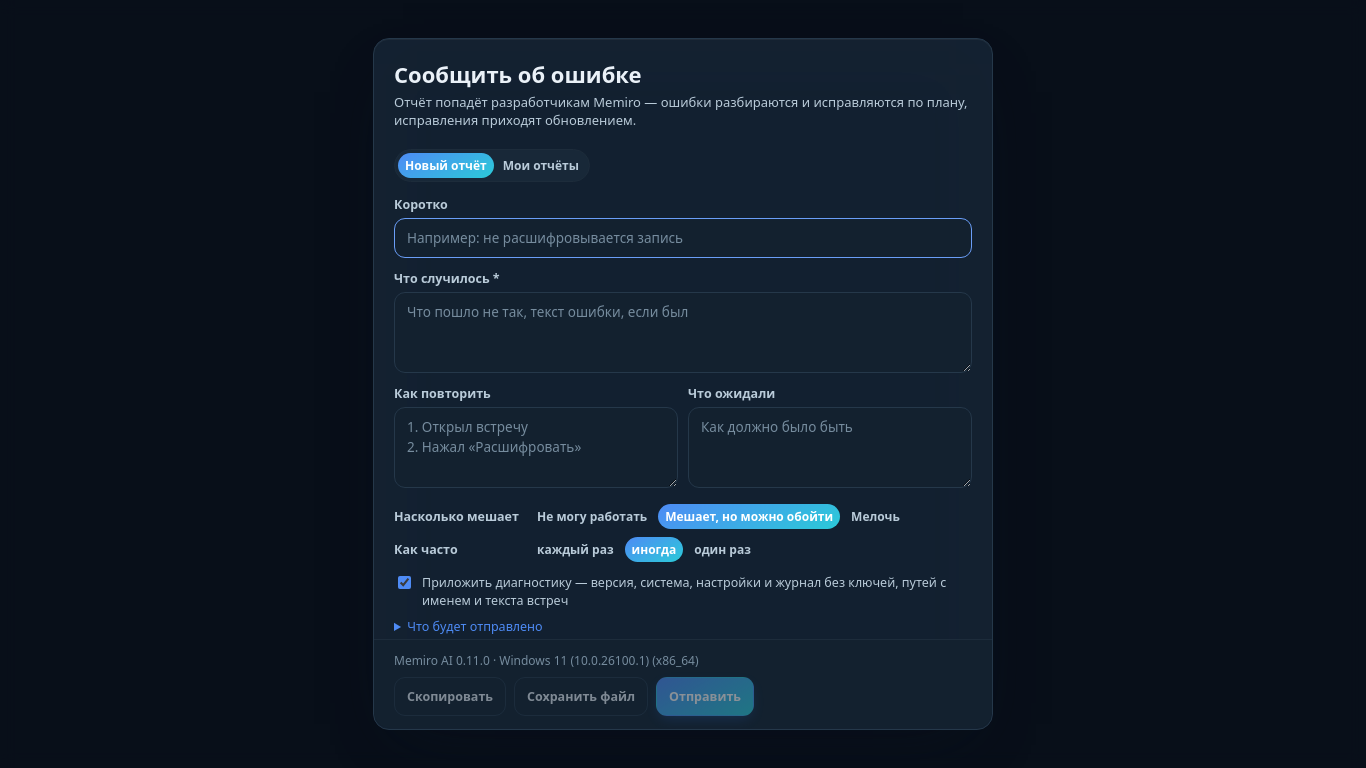
Scenario: BugReportModal › requires a description before sending
Expected: the button "Отправить" is disabled, [656,678,754,717]
Type "Не работает запись" into the text box labelled "Что случилось *".
click(683, 333); type("Не работает запись")  # box [394,292,972,373]
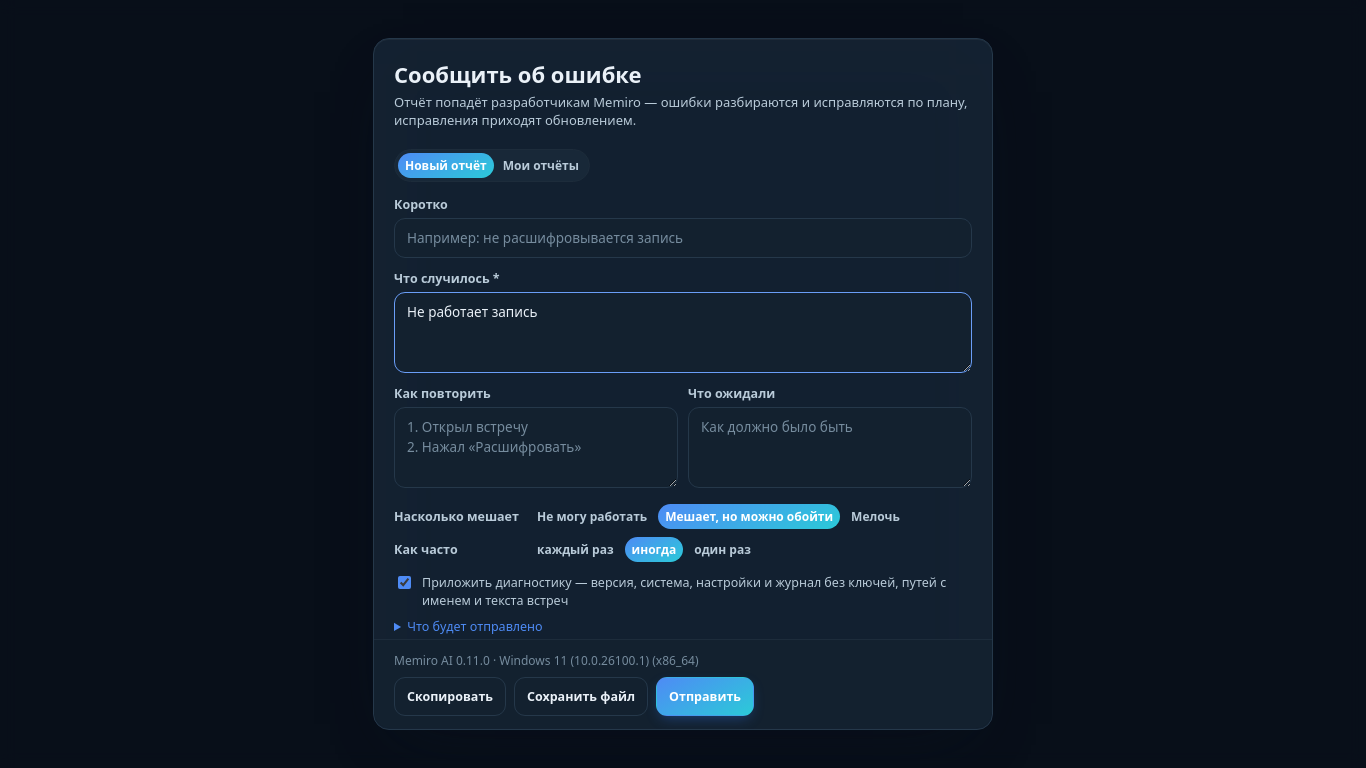
Now the button "Отправить" is enabled, box [656,678,754,717]
